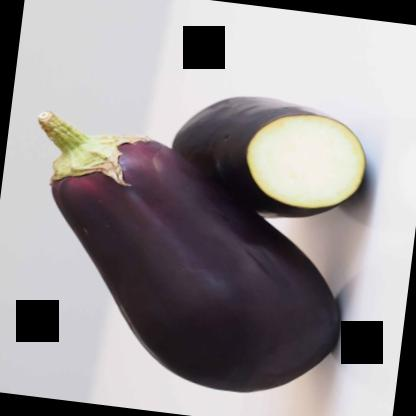eggplant: (6, 109, 367, 406), (164, 88, 372, 227)
